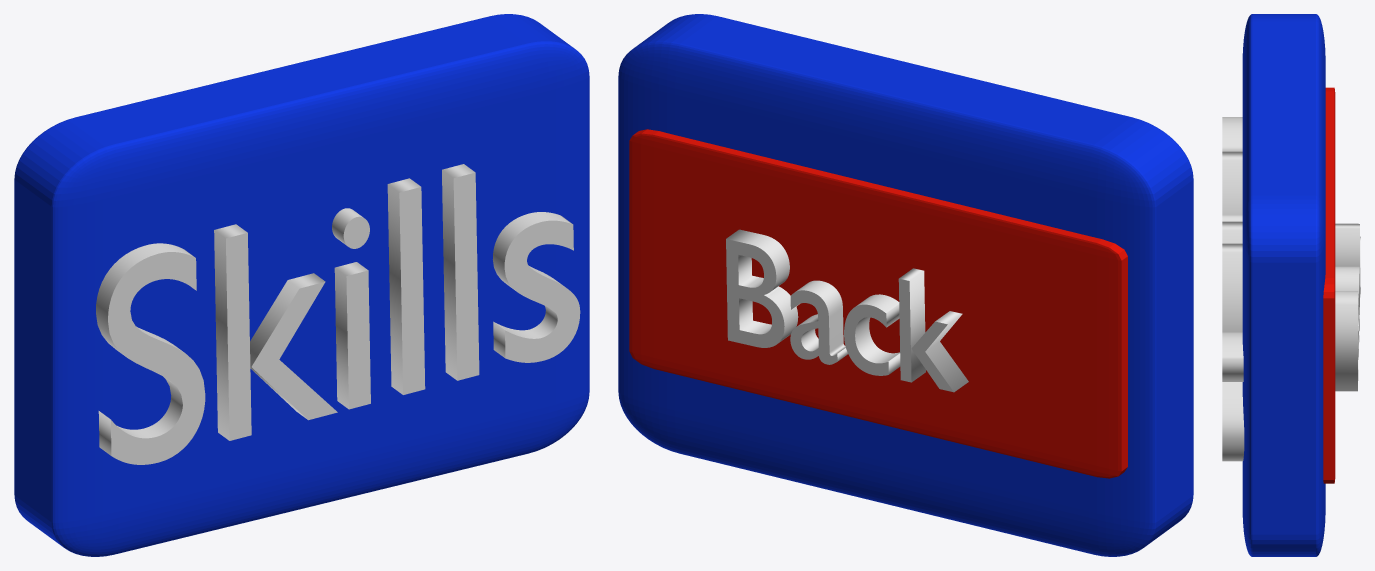
Rendered from Skills.gltf.
3 renders of one model, left to right at view 1: azimuth 30°, elevation 25°; view 2: azimuth 150°, elevation 25°; view 3: azimuth 270°, elevation 25°, orthographic. The views are drawn at different scales.
Visible parts, largest first — view 1: Cube, Text; view 2: Cube, Cube.001, Text.001; view 3: Cube, Text, Cube.001, Text.001.
Boxes of the visible parts, box(x1,y1,x2,y2) form: Cube: box(14, 14, 589, 556); Text: box(96, 164, 580, 464); Cube: box(618, 14, 1193, 556); Cube.001: box(629, 129, 1127, 478); Text.001: box(726, 229, 968, 392); Cube: box(1242, 14, 1325, 556); Text: box(1222, 117, 1244, 461); Cube.001: box(1323, 87, 1335, 483); Text.001: box(1335, 223, 1360, 391).
Size of the model in its own units: 412 by 301 by 106.
